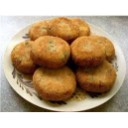cutlet: (32, 66, 75, 100), (76, 64, 118, 94), (32, 36, 70, 68), (10, 39, 38, 72), (73, 37, 107, 63), (47, 19, 82, 41), (24, 18, 52, 37)
